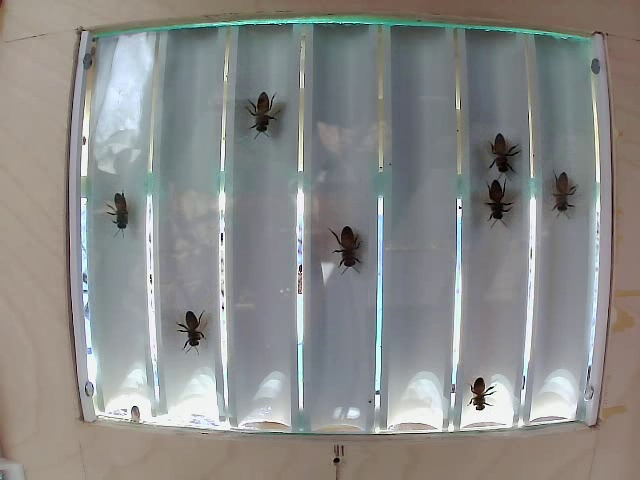bee: (324, 222, 378, 280), (469, 172, 522, 229), (176, 297, 219, 359), (98, 176, 140, 235), (238, 75, 276, 134), (549, 158, 583, 220), (480, 126, 511, 172)
